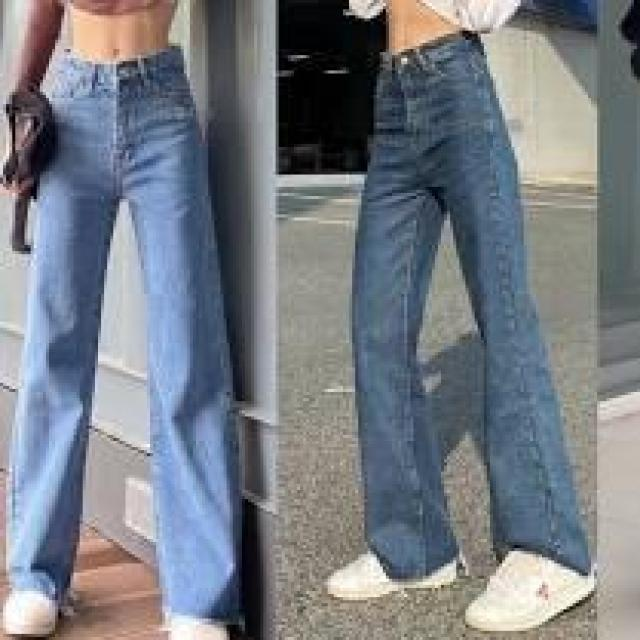pants: (346, 46, 597, 576), (14, 63, 246, 620)
